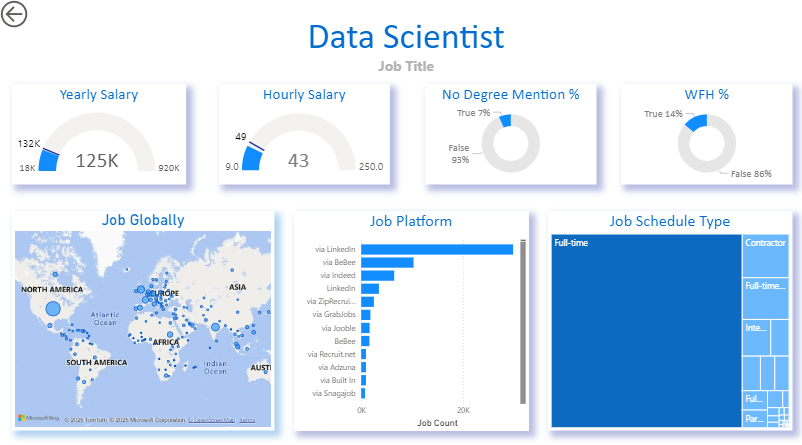

The dashboard page shown, as its layout file describes it:
{"tool":"powerbi","page":{"name":"Job Title Short","canvas":[1280,720],"ordinal":1},"visuals":[{"type":"card","fields":{"Values":["Min(job_postings_flat.job_title_short)"]},"box":[323.3,0,631.7,140],"z":0},{"type":"actionButton","box":[0,0,91.7,53.3],"z":1000},{"type":"donutChart","title":"No Degree Mention %","fields":{"Category":["job_postings_flat.job_no_degree_mention"],"Y":["CountNonNull(job_postings_flat.job_title_short)"]},"box":[668.3,136.7,268.3,156.7],"z":2000},{"type":"donutChart","title":"WFH %","fields":{"Category":["job_postings_flat.job_work_from_home"],"Y":["CountNonNull(job_postings_flat.job_title_short)"]},"box":[975,136.7,268.3,156.7],"z":3000},{"type":"gauge","title":"Yearly Salary","fields":{"Y":["Median(job_postings_flat.salary_year_avg)"],"MinValue":["Min(job_postings_flat.salary_year_avg)"],"MaxValue":["Max(job_postings_flat.salary_year_avg)"],"TargetValue":["Avg(job_postings_flat.salary_year_avg)1"]},"box":[23.3,136.7,271.7,156.7],"z":4000},{"type":"gauge","title":"Hourly Salary","fields":{"Y":["Median(job_postings_flat.salary_hour_avg)"],"MinValue":["Min(job_postings_flat.salary_hour_avg)"],"MaxValue":["Max(job_postings_flat.salary_hour_avg)1"],"TargetValue":["Avg(job_postings_flat.salary_hour_avg)"]},"box":[346.7,136.7,266.7,156.7],"z":5000},{"type":"treemap","title":"Job Schedule Type","fields":{"Group":["job_postings_flat.job_schedule_type"],"Values":["CountNonNull(job_postings_flat.job_title_short)"]},"box":[861.7,335,381.7,343.3],"z":6000},{"type":"barChart","title":"Job Platform","fields":{"Category":["job_postings_flat.job_via"],"Y":["CountNonNull(job_postings_flat.job_title_short)"]},"box":[463.3,335,366.7,343.3],"z":7000},{"type":"map","title":"Job Globally","fields":{"Category":["job_postings_flat.job_country"],"Size":["CountNonNull(job_postings_flat.job_title_short)"]},"box":[23.3,335,410,343.3],"z":8000}]}

Visuals, with their boxes in screenshot pixels (x1, y1, x2, y2), scaled from the page's 1280x720 canvas onto the 802x445 screenshot:
card - Min(job_postings_flat.job_title_short): {"x1": 203, "y1": 0, "x2": 598, "y2": 87}
actionButton: {"x1": 0, "y1": 0, "x2": 57, "y2": 33}
"No Degree Mention %" donutChart: {"x1": 419, "y1": 84, "x2": 587, "y2": 181}
"WFH %" donutChart: {"x1": 611, "y1": 84, "x2": 779, "y2": 181}
"Yearly Salary" gauge: {"x1": 15, "y1": 84, "x2": 185, "y2": 181}
"Hourly Salary" gauge: {"x1": 217, "y1": 84, "x2": 384, "y2": 181}
"Job Schedule Type" treemap: {"x1": 540, "y1": 207, "x2": 779, "y2": 419}
"Job Platform" barChart: {"x1": 290, "y1": 207, "x2": 520, "y2": 419}
"Job Globally" map: {"x1": 15, "y1": 207, "x2": 271, "y2": 419}
